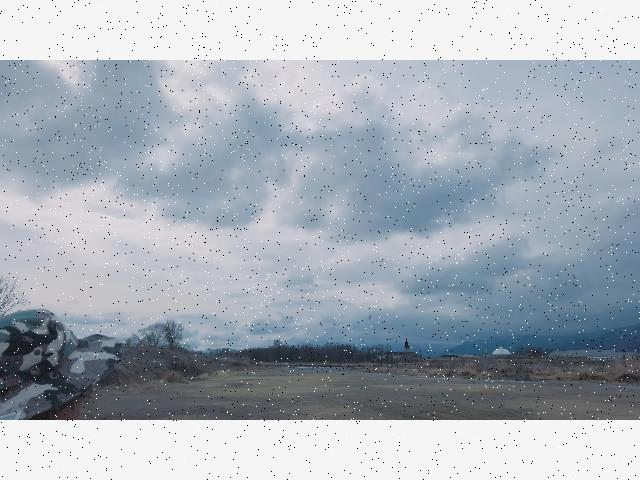Anti-Drone: (368, 255, 388, 267)
